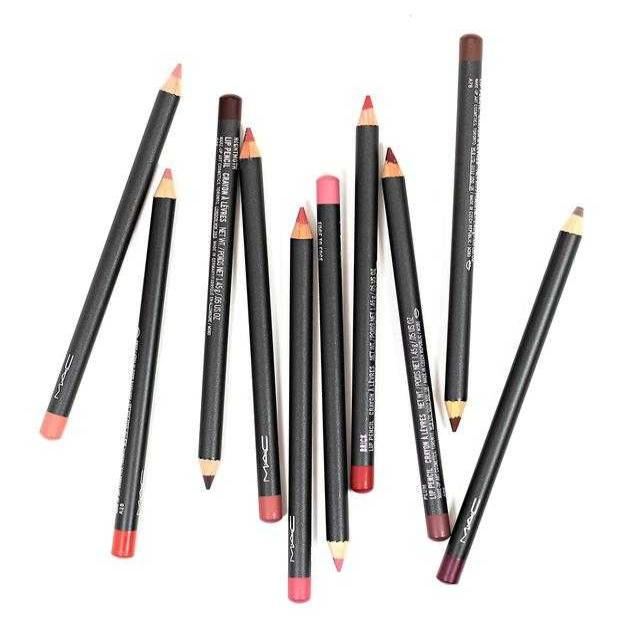pencil: (18, 41, 203, 468), (422, 184, 602, 591), (371, 133, 472, 558), (102, 162, 189, 577), (432, 29, 501, 430), (183, 72, 247, 502), (229, 114, 289, 535), (271, 198, 326, 625), (310, 165, 366, 580), (347, 78, 390, 508)
